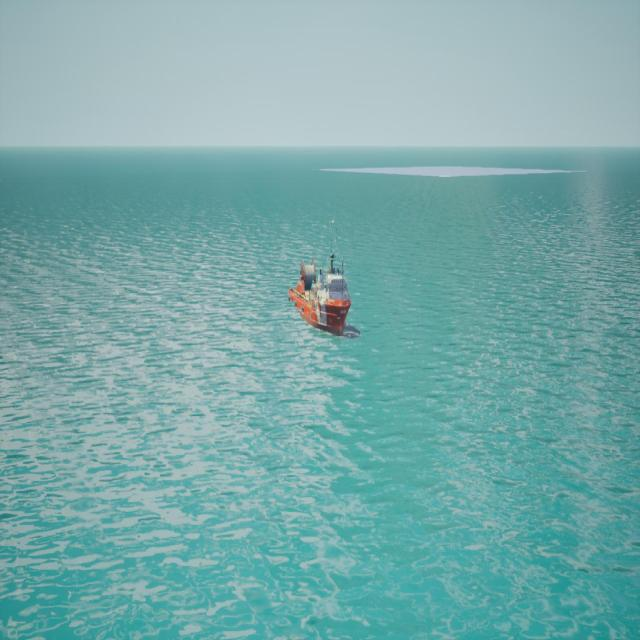tug boat: (291, 221, 357, 340)
